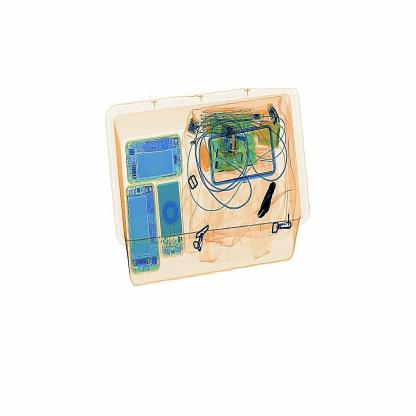knife: (259, 180, 277, 220)
